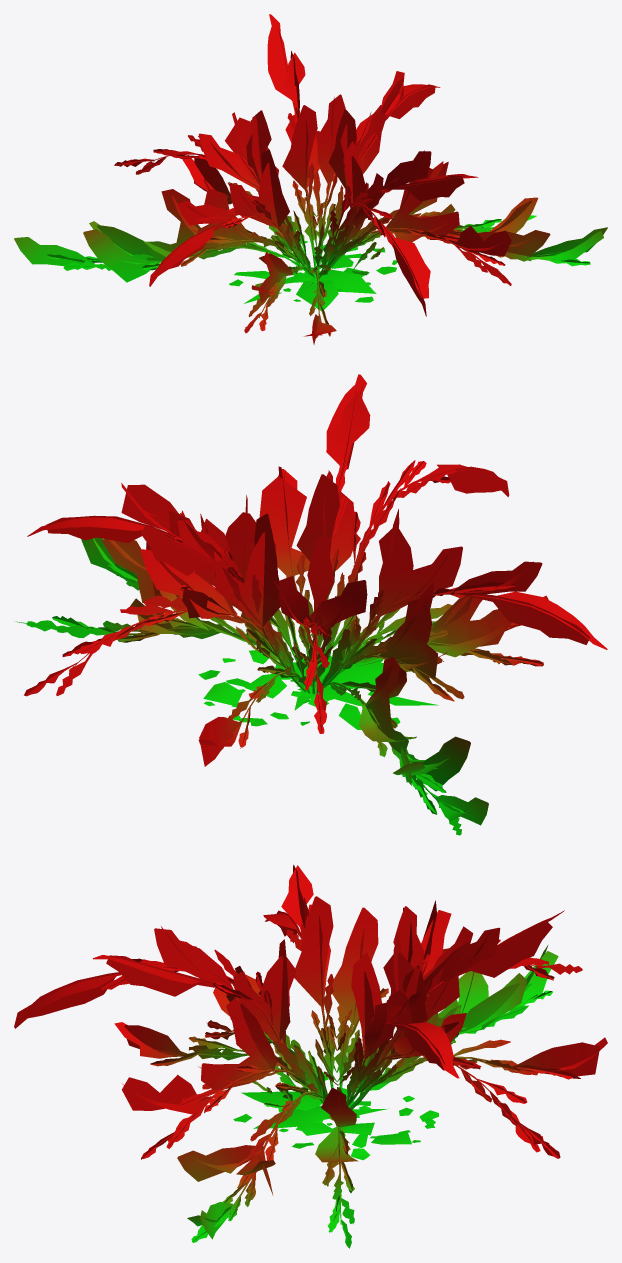
Rendered from River Saltbush_LOD0_Var1_vdfpcgbia.fbx.
3 renders of one model, top to bottom at view 1: azimuth 30°, elevation 25°; view 2: azimuth 150°, elevation 25°; view 3: azimuth 270°, elevation 25°, orthographic. The views are drawn at different scales.
Parts seen in each view (by area): view 1: _cmq2_Var1_LOD0; view 2: _cmq2_Var1_LOD0; view 3: _cmq2_Var1_LOD0.
Part boxes in pixels (x1,y1,x2,y2): _cmq2_Var1_LOD0: (14,14,607,344); _cmq2_Var1_LOD0: (14,374,607,835); _cmq2_Var1_LOD0: (14,864,607,1248).
Size of the model in its own units: 84.05 by 33.88 by 76.22.
